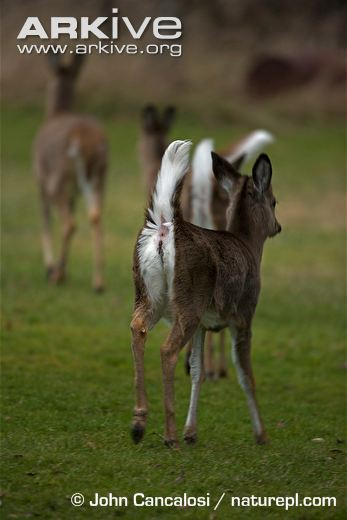Deer: (127, 139, 285, 446), (28, 49, 113, 295)
